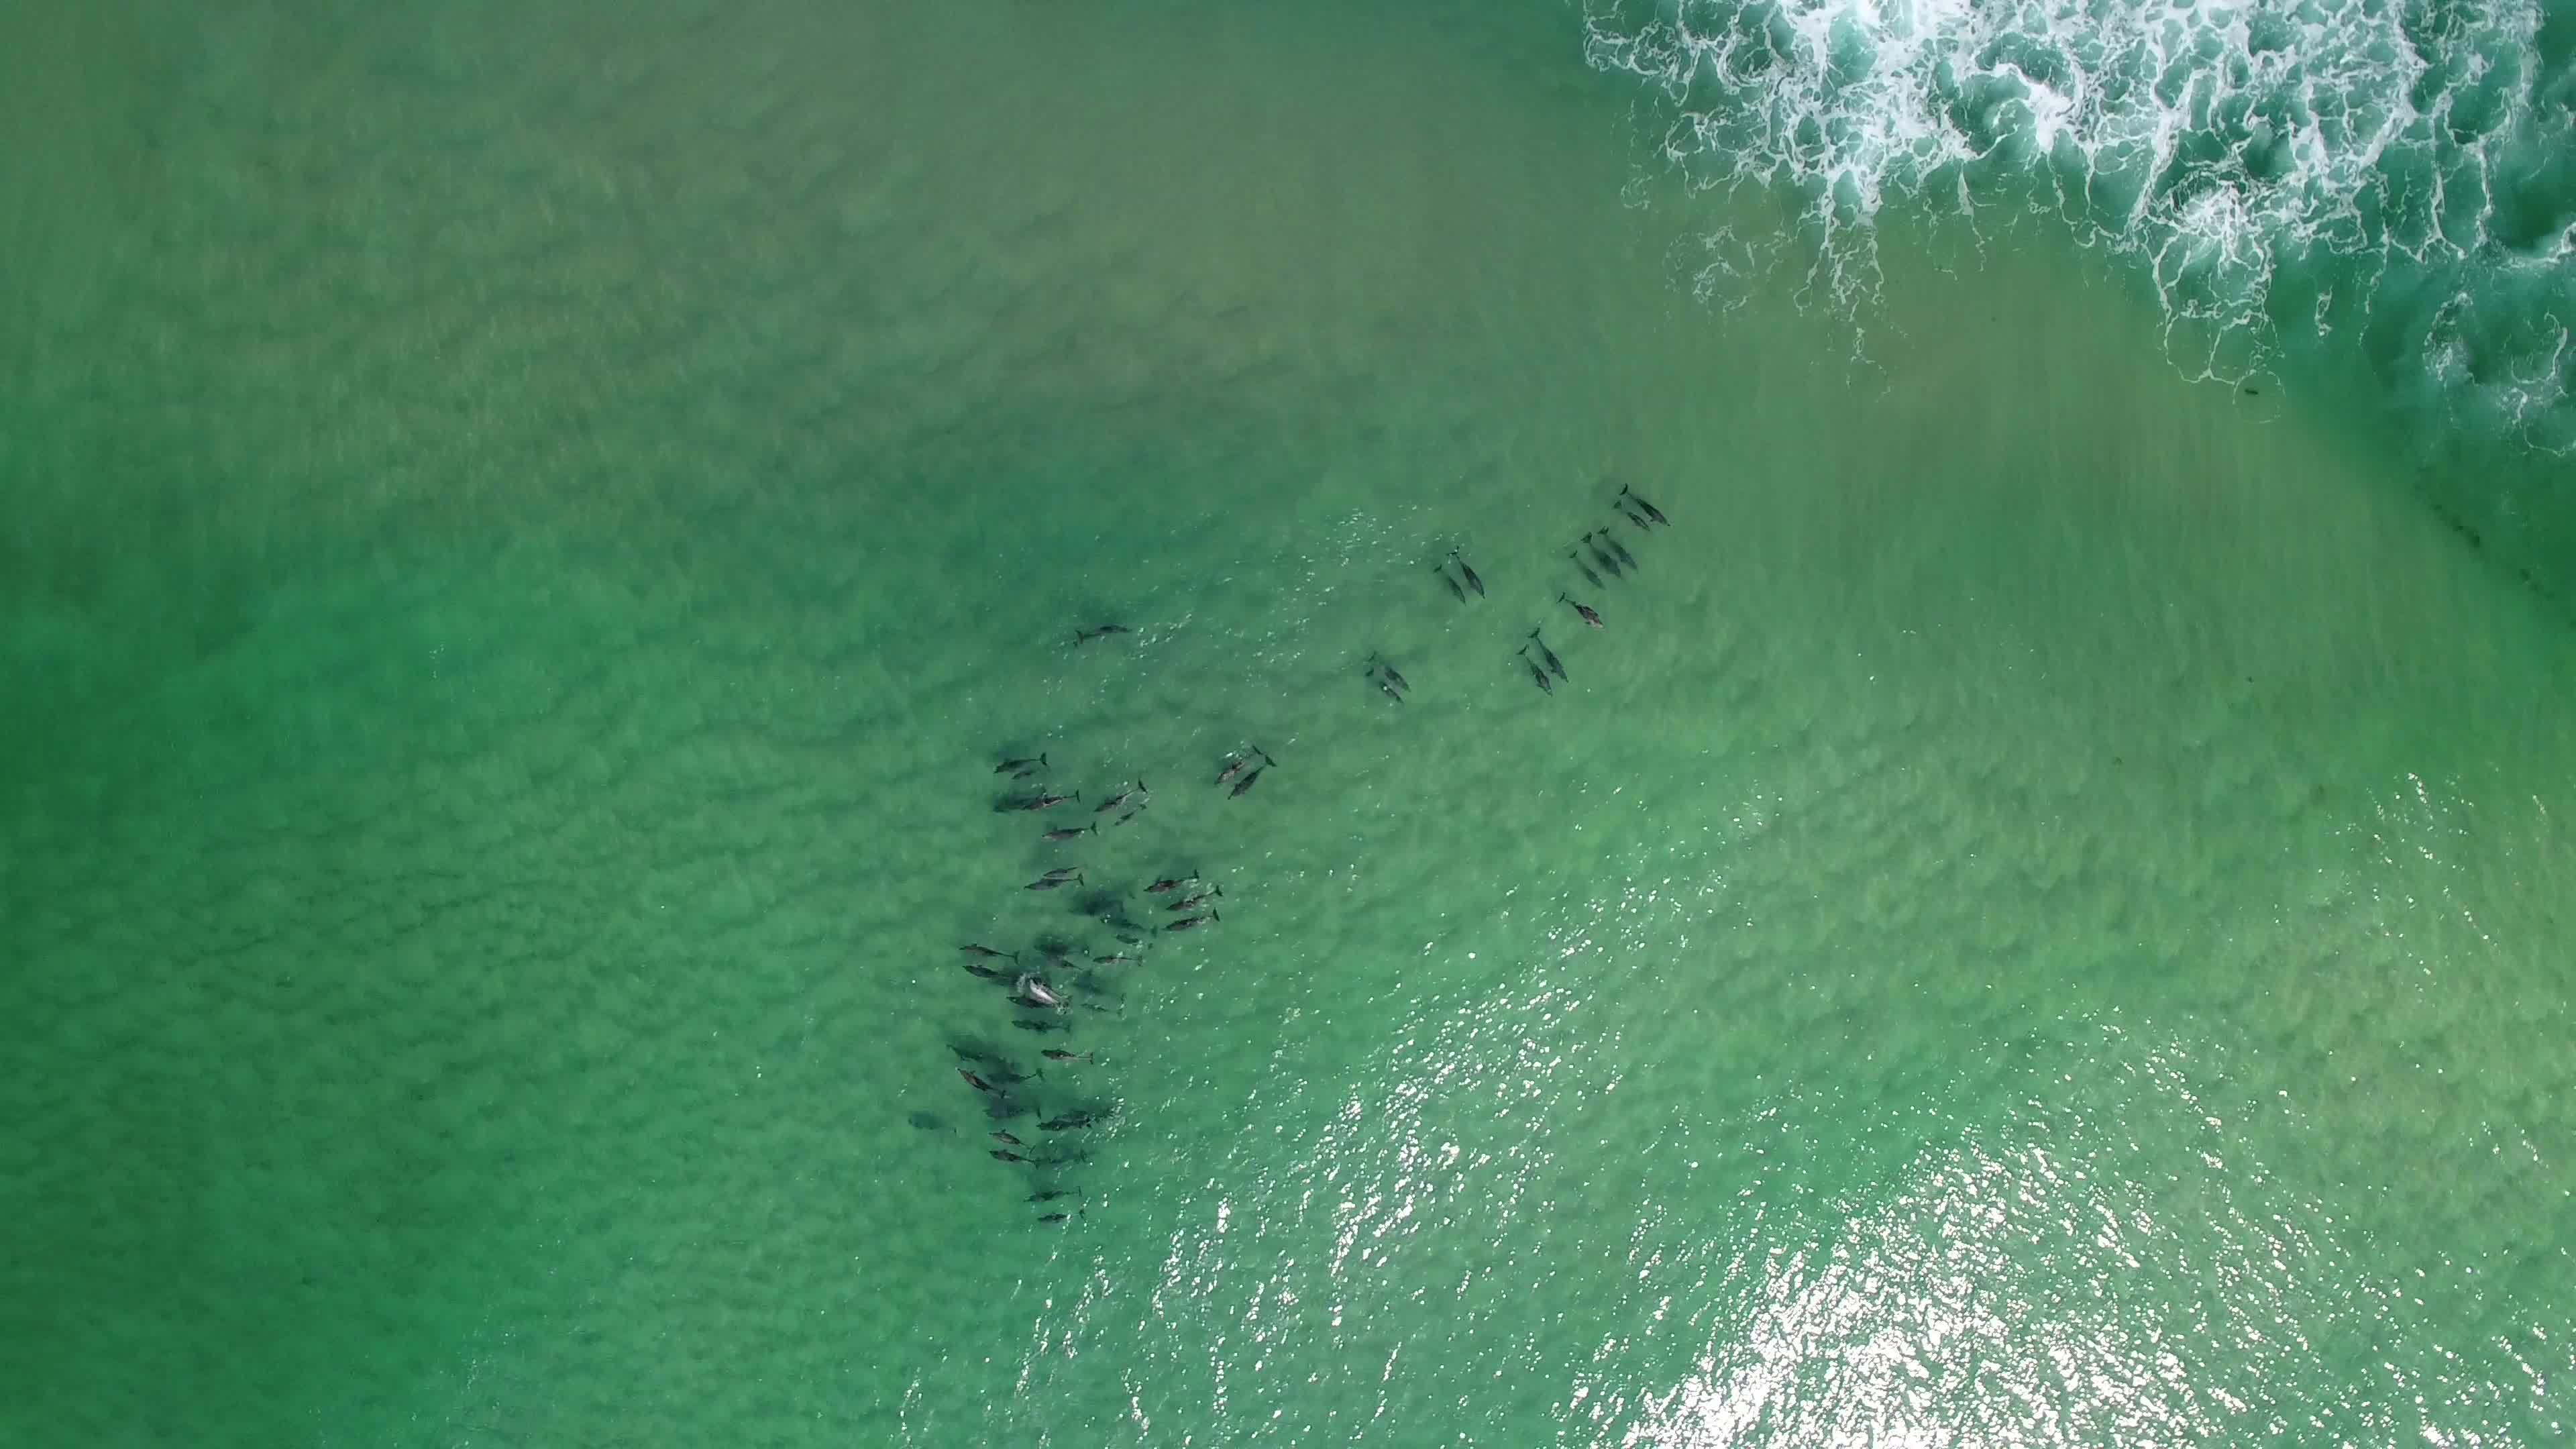dolphin: (1529, 617, 1578, 686), (1615, 478, 1677, 533), (1228, 743, 1283, 805), (1361, 642, 1421, 697), (1509, 635, 1557, 701), (1552, 584, 1612, 635), (1580, 520, 1629, 582), (952, 1063, 1016, 1109), (1560, 543, 1614, 598), (1352, 658, 1407, 711), (1447, 538, 1495, 598), (1594, 520, 1642, 573), (1065, 610, 1132, 648), (1207, 734, 1251, 789), (1424, 559, 1470, 609), (1033, 814, 1104, 844), (1605, 495, 1654, 538), (1023, 968, 1070, 1008), (994, 791, 1090, 810), (957, 957, 1014, 989), (957, 938, 1024, 964), (1039, 1044, 1109, 1069), (1026, 865, 1086, 892), (987, 748, 1051, 771), (1010, 1014, 1074, 1037), (1138, 867, 1205, 888), (1079, 993, 1129, 1021), (1161, 911, 1226, 932), (1100, 909, 1148, 938), (985, 1125, 1035, 1152), (1166, 886, 1226, 908), (1090, 950, 1148, 971), (1005, 994, 1062, 1016), (984, 1146, 1040, 1168), (1088, 784, 1145, 803), (1040, 1113, 1093, 1131)
